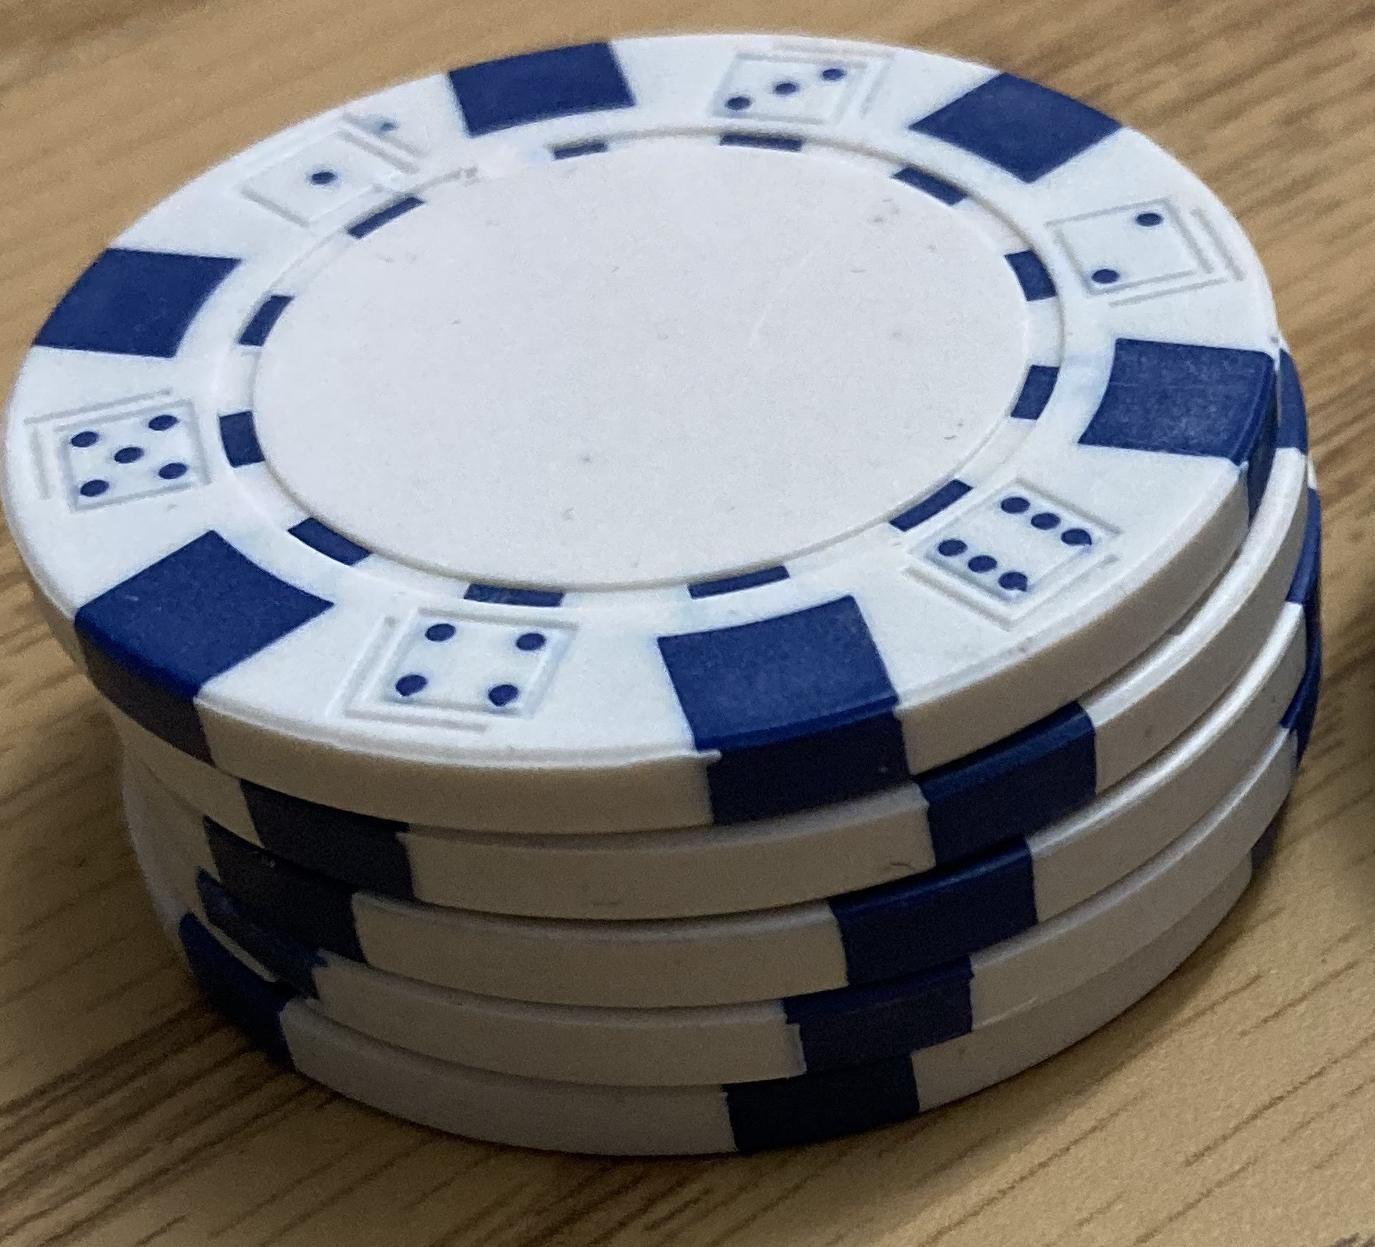Chip: (1, 1, 1375, 1247)
